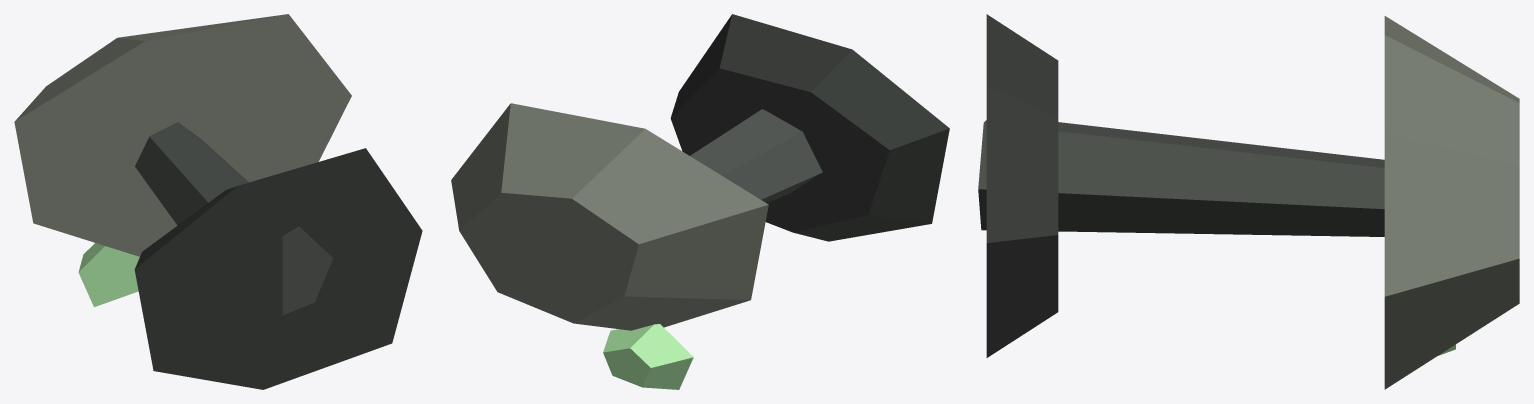
The model's file is CrashBasinFloraA.fbx.
3 renders of one model, left to right at view 1: azimuth 30°, elevation 25°; view 2: azimuth 150°, elevation 25°; view 3: azimuth 270°, elevation 25°, orthographic. The views are drawn at different scales.
Visible parts, largest first — view 1: FloraCrown, FloraBase, FloraStem, FloraAccent; view 2: FloraCrown, FloraBase, FloraStem, FloraAccent; view 3: FloraCrown, FloraStem, FloraBase.
Boxes of the visible parts, bbox=[...] form: FloraCrown: bbox=[14, 14, 351, 256]; FloraBase: bbox=[134, 148, 422, 389]; FloraStem: bbox=[135, 122, 333, 315]; FloraAccent: bbox=[78, 243, 139, 307]; FloraCrown: bbox=[451, 103, 768, 330]; FloraBase: bbox=[670, 14, 949, 241]; FloraStem: bbox=[690, 109, 822, 203]; FloraAccent: bbox=[603, 324, 693, 389]; FloraCrown: bbox=[1384, 16, 1519, 389]; FloraStem: bbox=[978, 120, 1384, 236]; FloraBase: bbox=[986, 14, 1058, 357].
Bounding box in the file's own units: 138 × 92.23 × 136.
